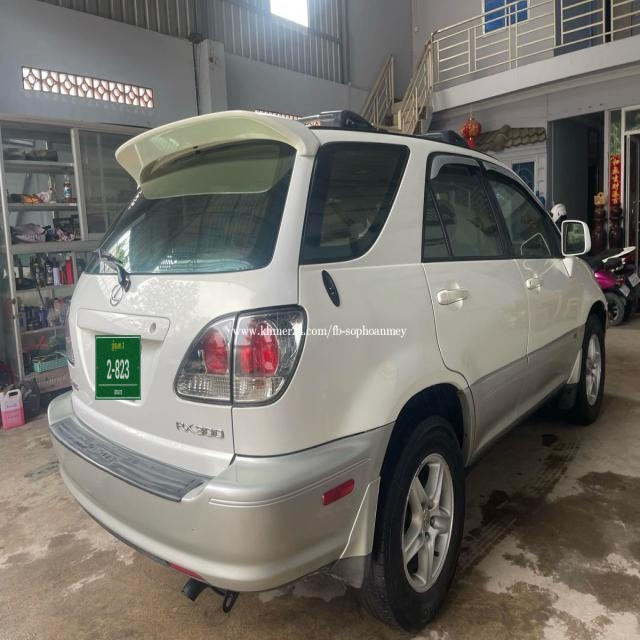Plate Number: (96, 336, 142, 400)
